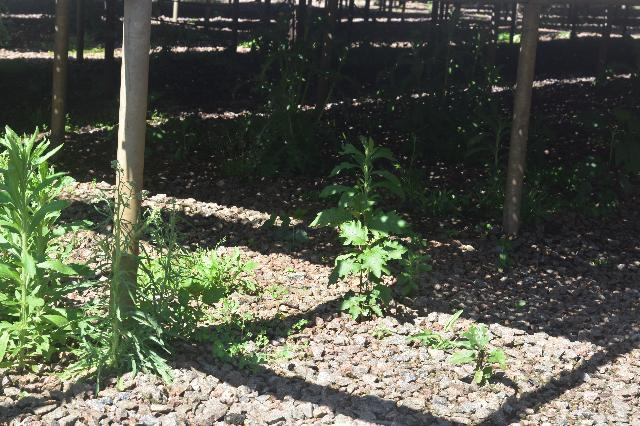MalezaMontesDelPlata: (65, 150, 164, 388), (245, 13, 380, 181), (0, 124, 86, 379), (319, 133, 411, 330), (386, 10, 501, 164), (135, 191, 209, 351), (173, 240, 268, 306), (197, 309, 292, 375), (464, 91, 510, 222), (153, 107, 218, 171), (453, 323, 509, 388), (402, 304, 471, 350), (215, 119, 263, 180), (485, 235, 523, 283)
